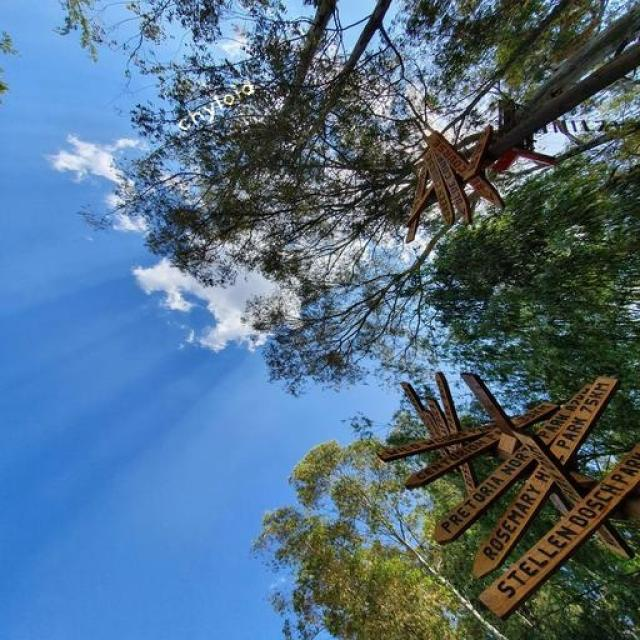watermark: (175, 73, 256, 136)
